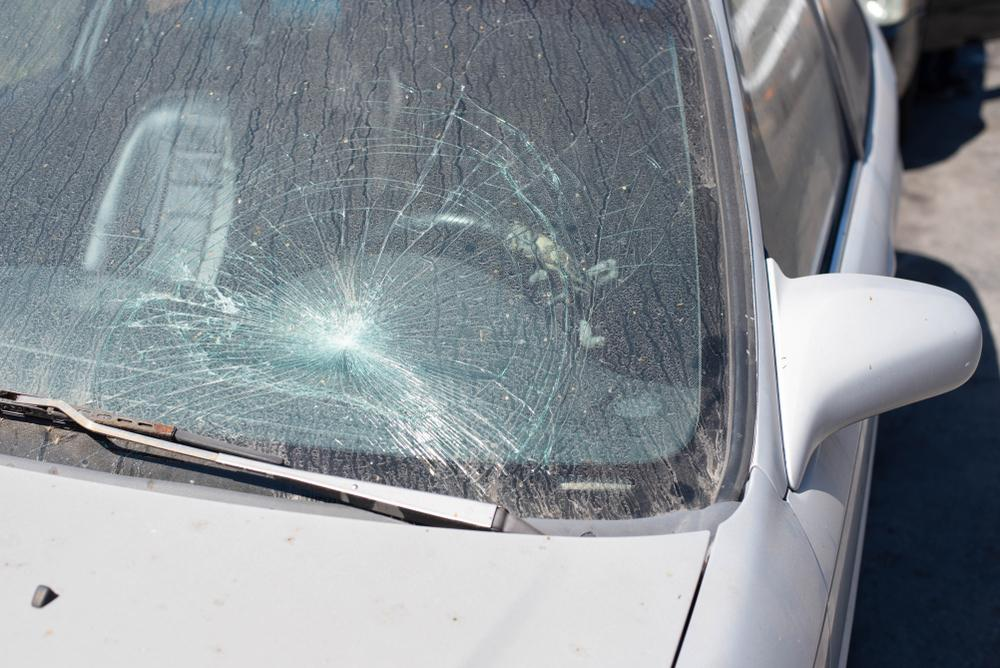glass shatter: (0, 0, 731, 521)
